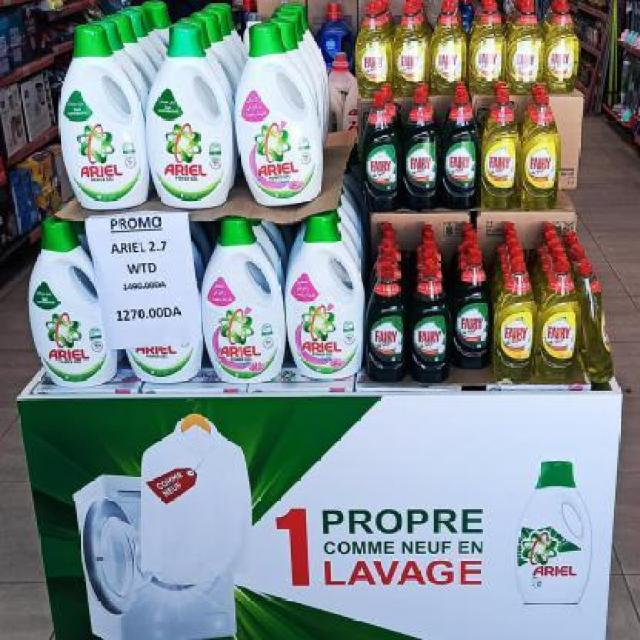Detergent: (60, 21, 146, 214), (235, 25, 322, 206), (28, 207, 108, 388), (150, 22, 228, 203), (284, 212, 365, 378), (204, 220, 285, 380)
